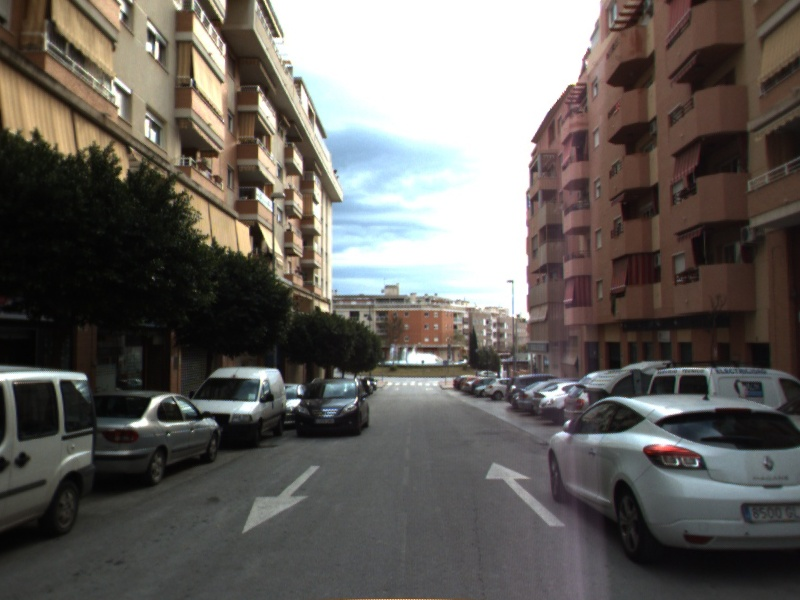STRAIGHT: (483, 460, 567, 529)
